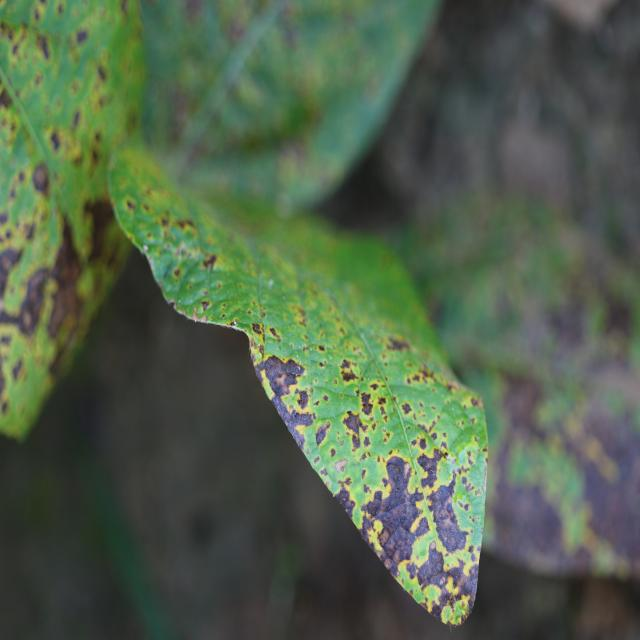Bacterial_Blight: (557, 397, 640, 561), (379, 456, 434, 576), (533, 284, 617, 359), (259, 355, 317, 446), (496, 370, 547, 435), (10, 265, 52, 337), (78, 194, 117, 263), (61, 13, 102, 70), (462, 459, 487, 505), (403, 362, 442, 391), (384, 454, 410, 486), (342, 411, 362, 440), (339, 358, 360, 384), (32, 163, 49, 192), (335, 484, 352, 509), (385, 335, 409, 352), (286, 357, 304, 376), (37, 34, 50, 59), (293, 305, 307, 327), (0, 85, 12, 110), (11, 357, 23, 381), (49, 129, 61, 151), (202, 253, 217, 270), (378, 527, 391, 546), (178, 219, 194, 233), (360, 399, 373, 416), (432, 447, 446, 461), (251, 322, 264, 337), (268, 326, 281, 340), (72, 109, 81, 128), (401, 402, 412, 415), (0, 334, 10, 347), (470, 397, 481, 408), (200, 300, 210, 312), (167, 298, 177, 309), (160, 215, 169, 227), (126, 200, 135, 212), (1, 400, 8, 415), (192, 307, 200, 319), (370, 382, 379, 391), (173, 268, 180, 279), (317, 344, 326, 352), (229, 319, 237, 328), (361, 469, 367, 479), (318, 361, 325, 369), (302, 344, 309, 351), (216, 282, 222, 289), (247, 309, 252, 316)
Soybean: (108, 145, 487, 625)
